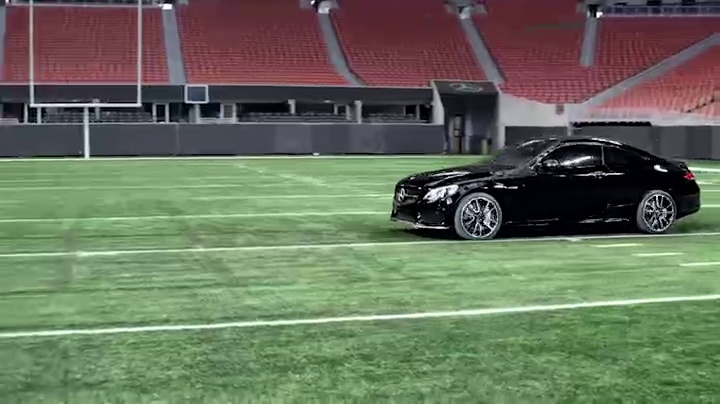amg: (388, 137, 702, 243)
